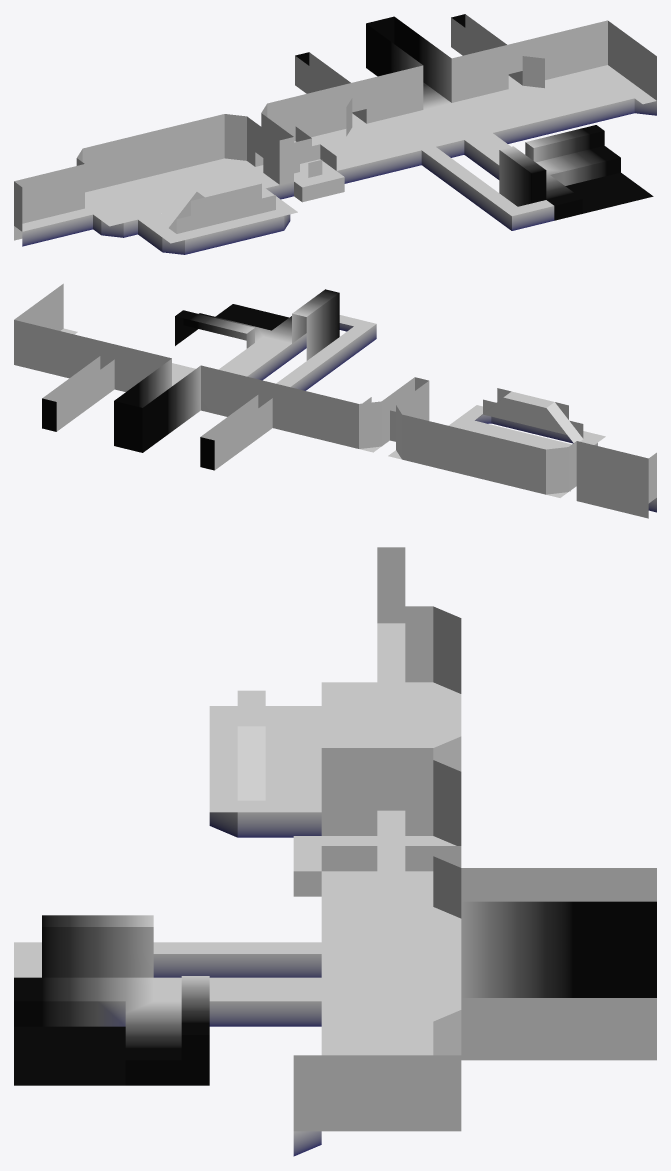
Rendered from showcase.obj.
The picture shows the model from 3 angles, top to bottom: view 1: azimuth 30°, elevation 25°; view 2: azimuth 150°, elevation 25°; view 3: azimuth 270°, elevation 25°; orthographic projection. The views are drawn at different scales.
Parts seen in each view (by area): view 1: Plane; view 2: Plane; view 3: Plane.
Part boxes in pixels (<box>): Plane: <box>14,14,656,254</box>; Plane: <box>14,283,656,518</box>; Plane: <box>14,547,656,1156</box>.
Size of the model in its own units: 43 by 4 by 23.
